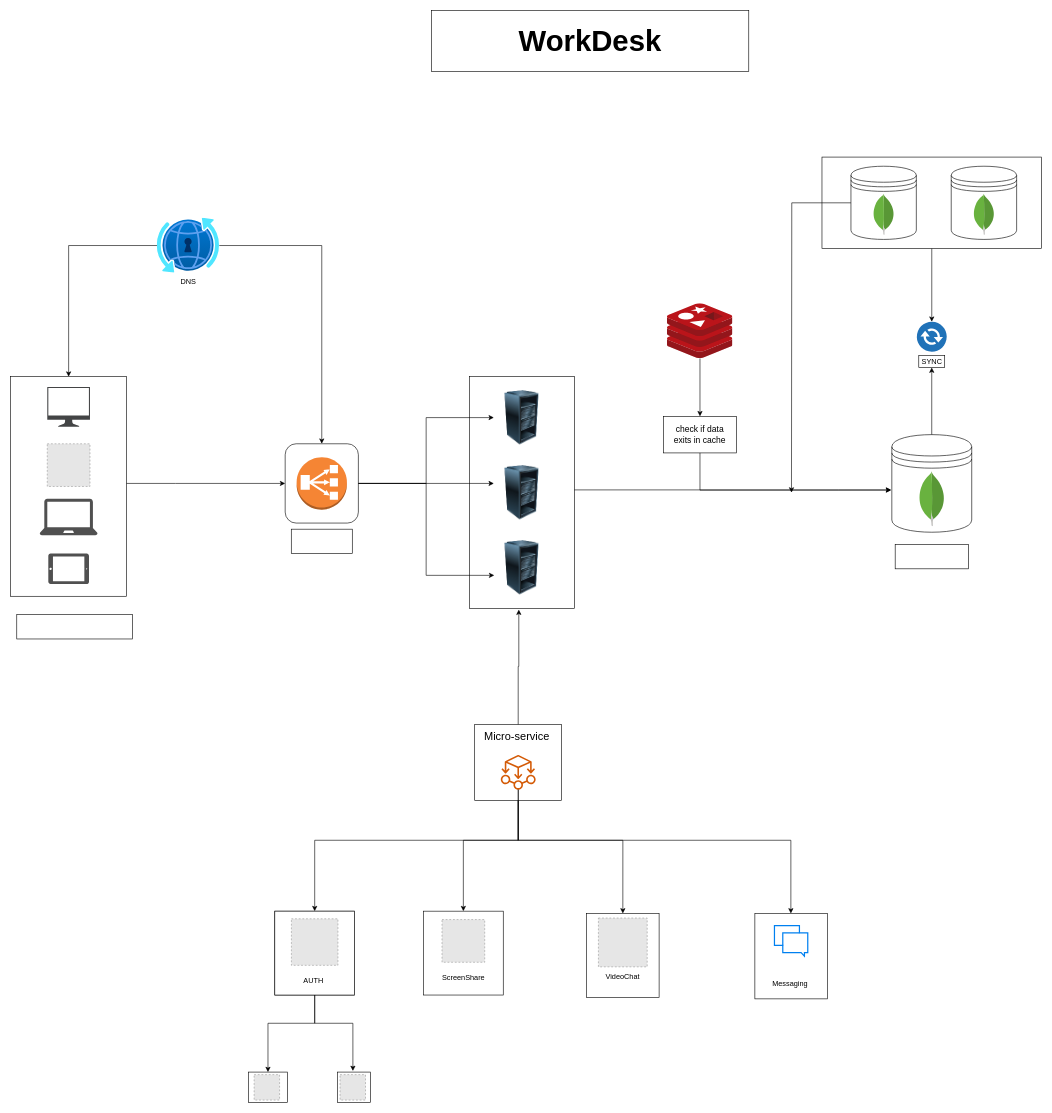
Image size: 1052x1113. Some labels were removed from this diagram. Grey dashed boxes stand in for pictures. The centre of each missing label's shape, as x and y in pixels:
"Client" belongs at point (74, 626).
"Load Balancer" belongs at point (321, 541).
"MONGO DB" belongs at point (931, 556).
